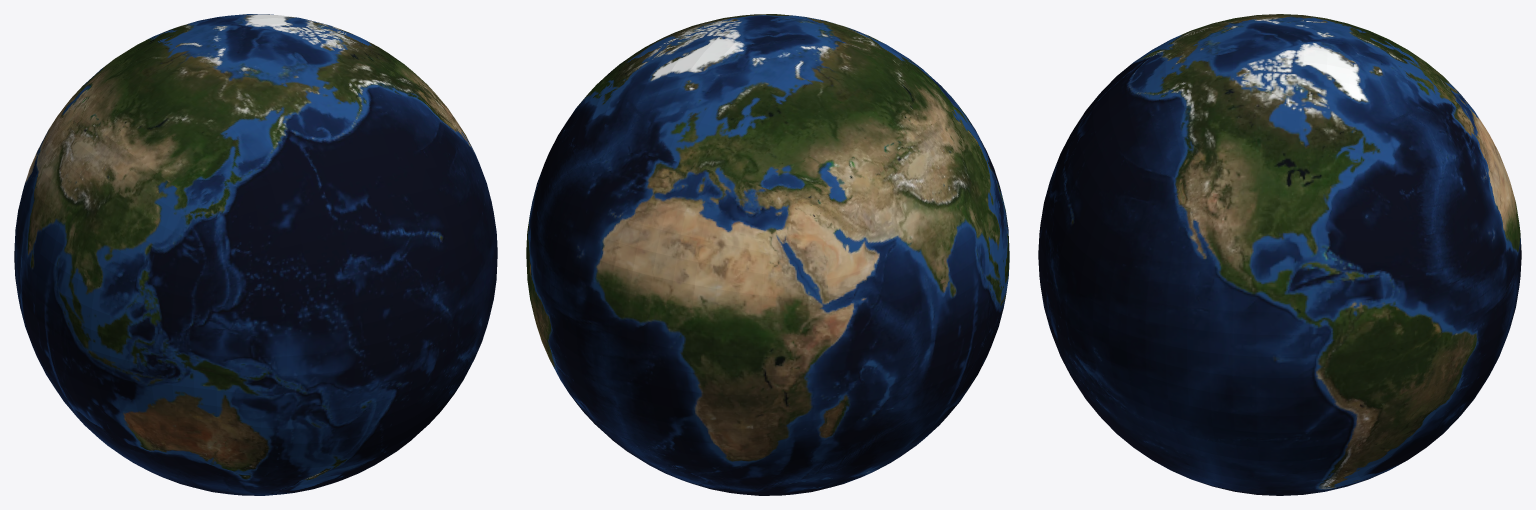
Rendered from earth.glb.
3 renders of one model, left to right at view 1: azimuth 30°, elevation 25°; view 2: azimuth 150°, elevation 25°; view 3: azimuth 270°, elevation 25°, orthographic.
Parts seen in each view (by area): view 1: Cube.001; view 2: Cube.001; view 3: Cube.001.
Boxes of the visible parts, left/top/right/bottom form: Cube.001: left=14, top=14, right=497, bottom=495; Cube.001: left=526, top=14, right=1009, bottom=495; Cube.001: left=1038, top=14, right=1521, bottom=495.
Size of the model in its own units: 1000 by 997 by 1000.
1 material, 1 textured.
